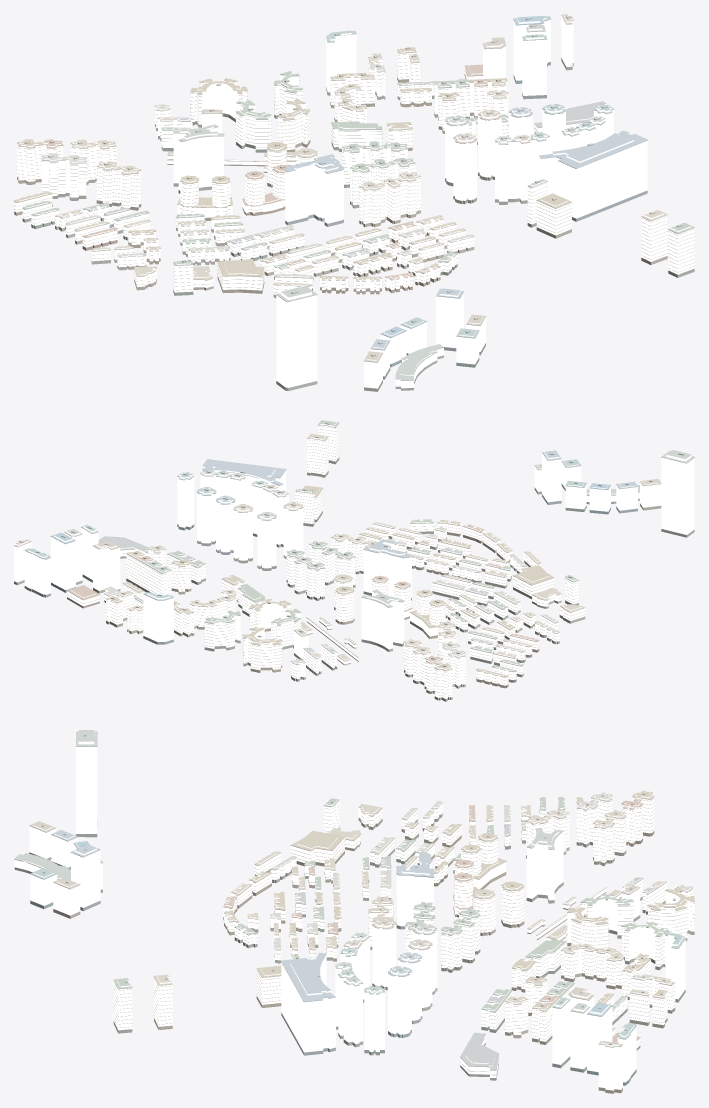
Rendered from buildings--5_2-fine.glb.
3 renders of one model, top to bottom at view 1: azimuth 30°, elevation 25°; view 2: azimuth 150°, elevation 25°; view 3: azimuth 270°, elevation 25°, orthographic. The views are drawn at different scales.
Parts seen in each view (by area): view 1: block_-5_2_residential, block_-5_2_office, block_-5_2_roof, block_-5_2_darkglass, block_-5_2_concrete, block_-5_2_steel; view 2: block_-5_2_residential, block_-5_2_office, block_-5_2_roof, block_-5_2_darkglass, block_-5_2_concrete, block_-5_2_steel; view 3: block_-5_2_residential, block_-5_2_office, block_-5_2_roof, block_-5_2_darkglass, block_-5_2_concrete, block_-5_2_steel.
Boxes of the visible parts, box(x1,y1,x2,y2) form: block_-5_2_residential: box(14, 49, 694, 294); block_-5_2_office: box(173, 15, 647, 388); block_-5_2_roof: box(14, 14, 694, 388); block_-5_2_darkglass: box(14, 58, 694, 391); block_-5_2_concrete: box(14, 52, 694, 292); block_-5_2_steel: box(173, 15, 647, 380); block_-5_2_residential: box(67, 422, 585, 698); block_-5_2_office: box(14, 452, 694, 658); block_-5_2_roof: box(14, 420, 694, 699); block_-5_2_darkglass: box(14, 457, 694, 701); block_-5_2_concrete: box(67, 424, 584, 695); block_-5_2_steel: box(14, 453, 693, 636); block_-5_2_residential: box(113, 792, 694, 1077); block_-5_2_office: box(14, 732, 685, 1090); block_-5_2_roof: box(14, 730, 694, 1080); block_-5_2_darkglass: box(14, 808, 694, 1093); block_-5_2_concrete: box(114, 792, 694, 1075); block_-5_2_steel: box(14, 746, 685, 1047).
Bounding box in the file's own units: 651 × 101 × 660.
